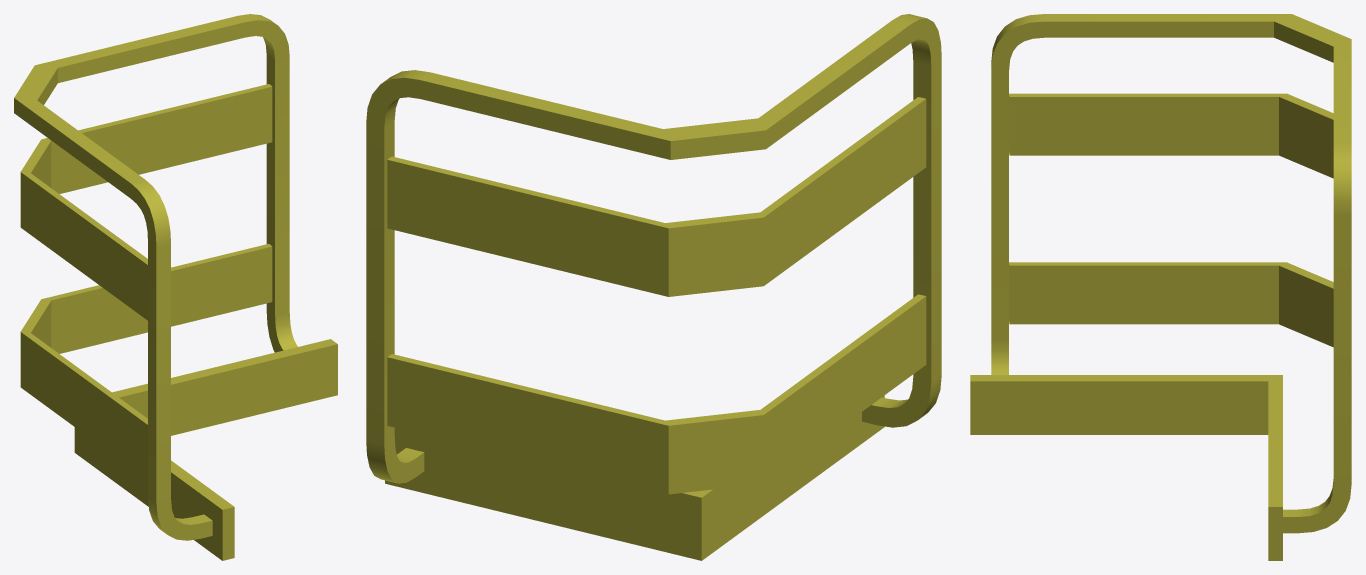
Rendered from Railings_A_2m_TurnOut.FBX.
3 renders of one model, left to right at view 1: azimuth 30°, elevation 25°; view 2: azimuth 150°, elevation 25°; view 3: azimuth 270°, elevation 25°, orthographic. The views are drawn at different scales.
Visible parts, largest first — view 1: Railings_A_2m_TurnOut; view 2: Railings_A_2m_TurnOut; view 3: Railings_A_2m_TurnOut.
Part boxes in pixels (left/top/right/bottom): Railings_A_2m_TurnOut: left=14, top=14, right=337, bottom=560; Railings_A_2m_TurnOut: left=366, top=14, right=941, bottom=560; Railings_A_2m_TurnOut: left=970, top=14, right=1351, bottom=560.
Bounding box in the file's own units: 128 × 143 × 128.
